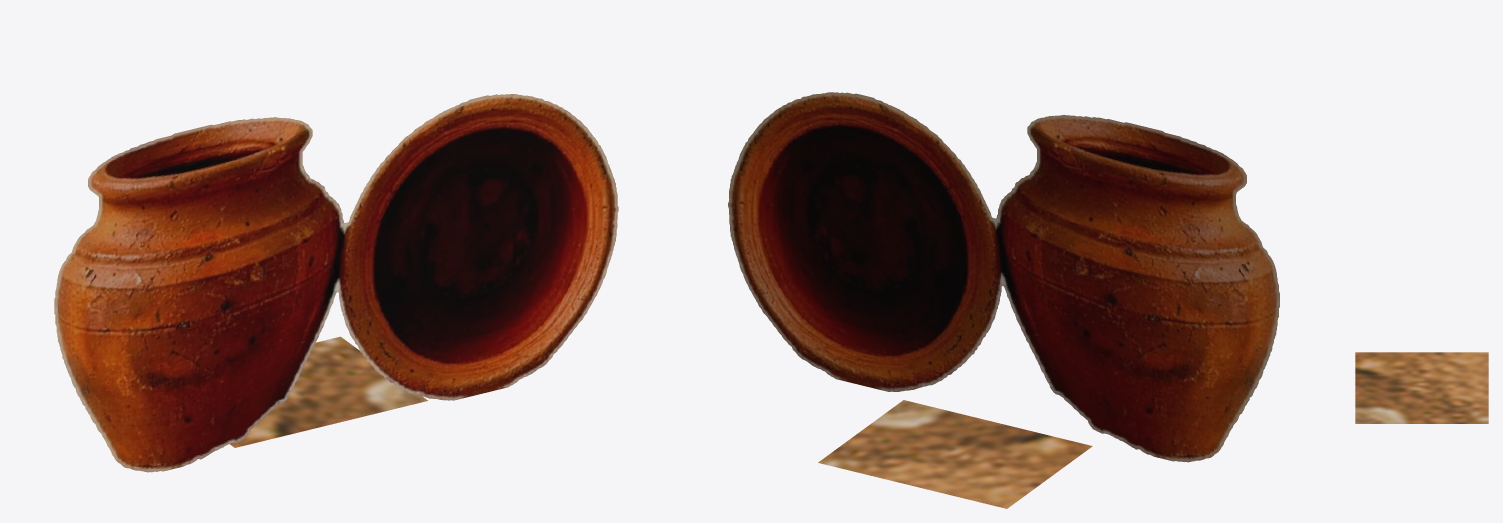
The model's file is toad-prop-jars-small.glb.
3 renders of one model, left to right at view 1: azimuth 30°, elevation 25°; view 2: azimuth 150°, elevation 25°; view 3: azimuth 270°, elevation 25°, orthographic. The views are drawn at different scales.
Parts seen in each view (by area): view 1: jars-small; view 2: jars-small; view 3: jars-small.
Part boxes in pixels (bbox=[...]): jars-small: bbox=[54, 94, 618, 472]; jars-small: bbox=[728, 92, 1279, 508]; jars-small: bbox=[1355, 352, 1488, 423].
Size of the model in its own units: 0.14 by 0.07 by 0.035.
1 material, 1 textured.
